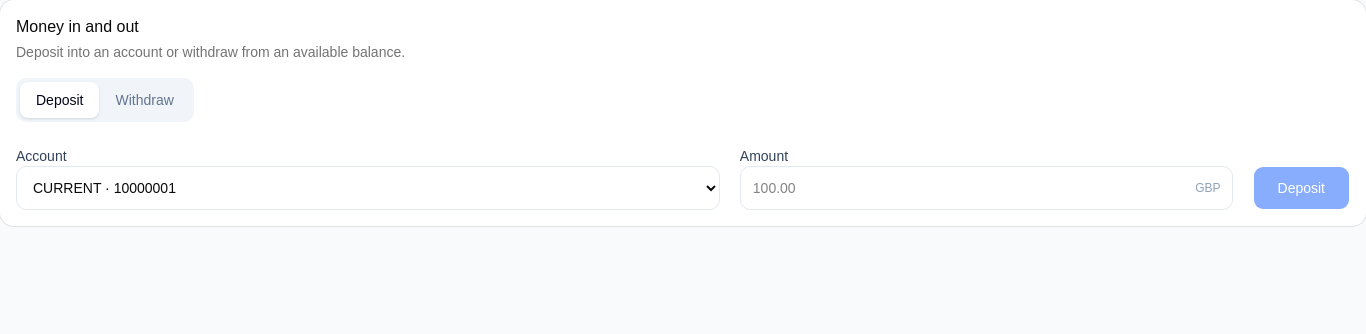
Scenario: CashActionsPanel › creates a deposit
The image size is (1366, 334).
In the number field labelled "Amount": (986, 188) [740,166,1232,210], type "50"
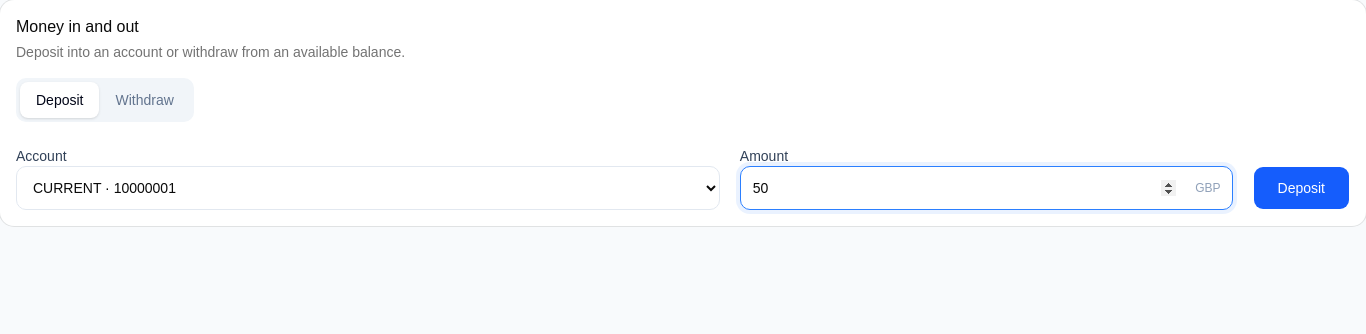
Click the button "Deposit" next to "GBP": (1301, 188) [1252,166,1350,210]
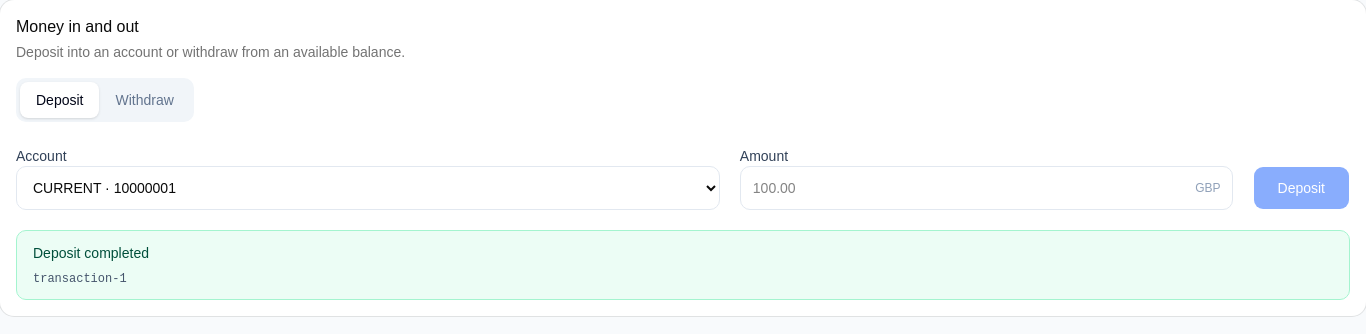
Result: the text "Deposit completed" is shown at [33,245,149,261]
